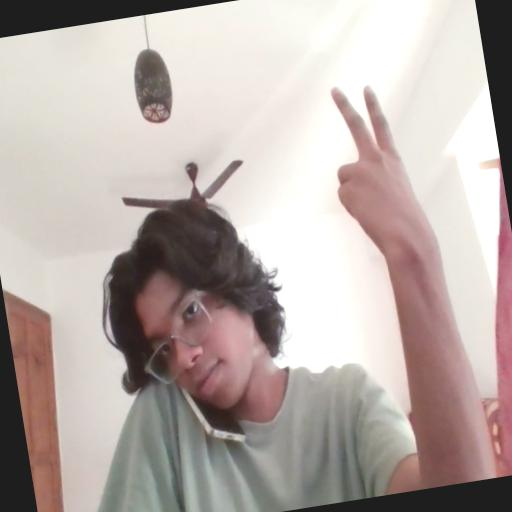scissor: (319, 72, 442, 274)
